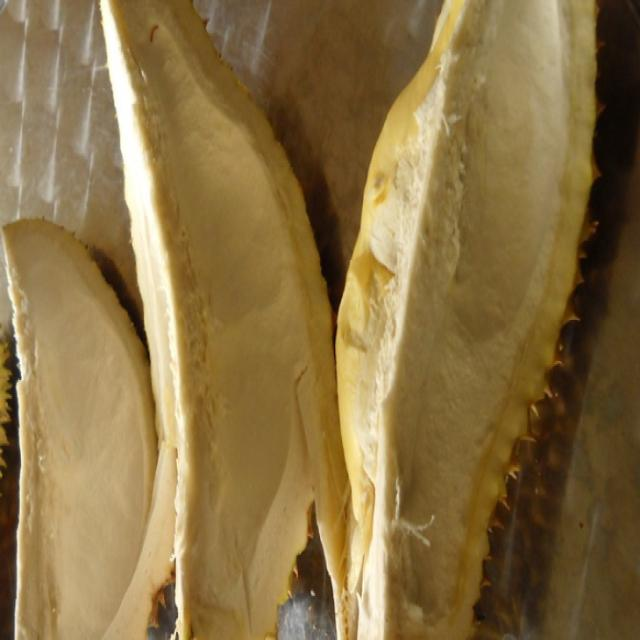Organik: (3, 0, 595, 640)
